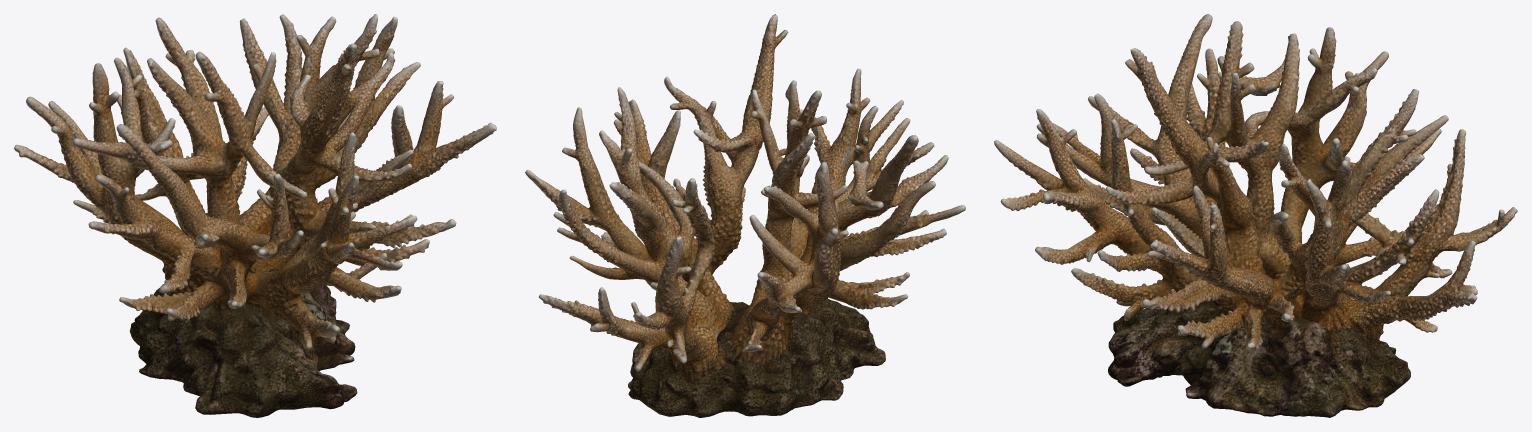
The model's file is coral.glb.
3 views of the same model, side by side, from view 1: azimuth 30°, elevation 25°; view 2: azimuth 150°, elevation 25°; view 3: azimuth 270°, elevation 25° (orthographic). The views are drawn at different scales.
Visible parts, largest first — view 1: Object_2; view 2: Object_2; view 3: Object_2.
Boxes of the visible parts, box(x1,y1,x2,y2) form: Object_2: box(14, 14, 496, 417); Object_2: box(525, 14, 965, 417); Object_2: box(994, 14, 1517, 417).
Bounding box in the file's own units: 0.8735 × 0.7052 × 0.9789.
Materials: 1 (1 with a texture image).
